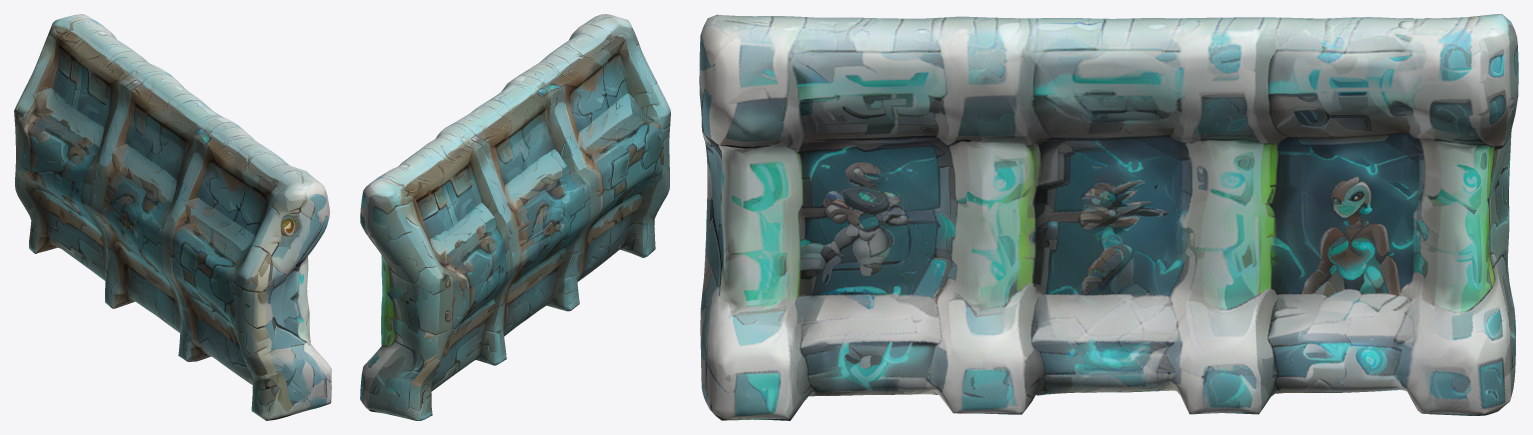
File: Stylized_sci_fi_wall_0402101042_refine.fbx
3 renders of one model, left to right at view 1: azimuth 30°, elevation 25°; view 2: azimuth 150°, elevation 25°; view 3: azimuth 270°, elevation 25°, orthographic. The views are drawn at different scales.
Visible parts, largest first — view 1: Mesh_0; view 2: Mesh_0; view 3: Mesh_0.
Boxes of the visible parts, left/top/right/bottom form: Mesh_0: left=14, top=14, right=331, bottom=420; Mesh_0: left=360, top=14, right=670, bottom=420; Mesh_0: left=699, top=14, right=1518, bottom=420.
Bounding box in the file's own units: 27.5 × 62.07 × 120.
1 material, 1 textured.
